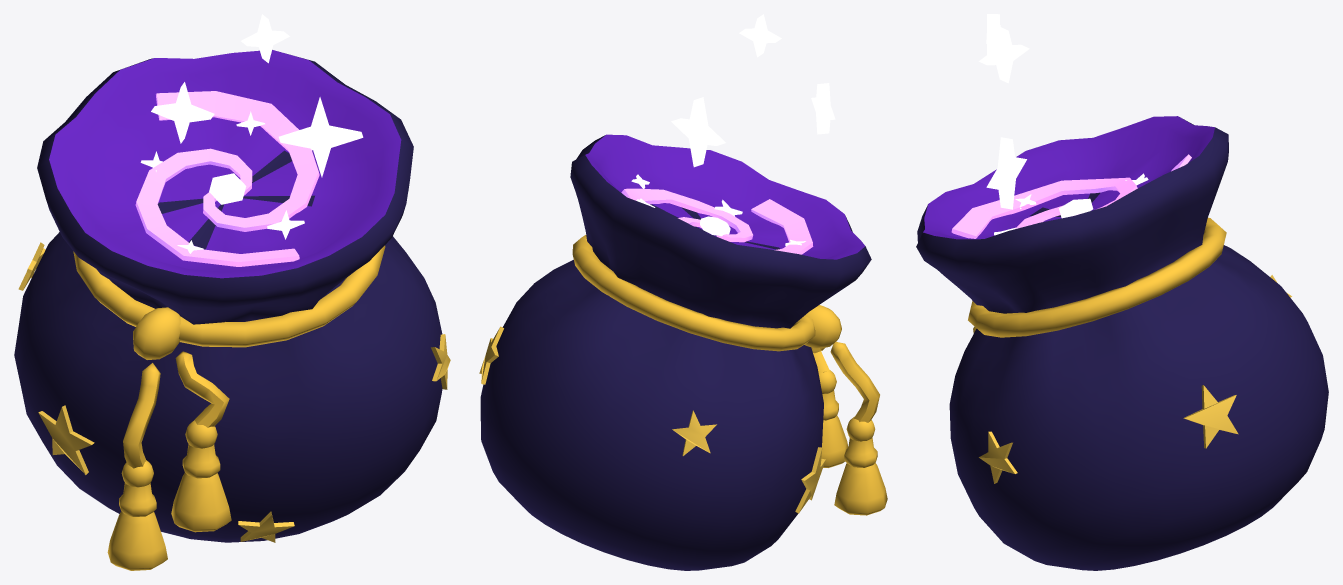
File: item_pouch_void.glb
3 renders of one model, left to right at view 1: azimuth 30°, elevation 25°; view 2: azimuth 150°, elevation 25°; view 3: azimuth 270°, elevation 25°, orthographic. The views are drawn at different scales.
Visible parts, largest first — view 1: PouchVoid; view 2: PouchVoid; view 3: PouchVoid.
Part boxes in pixels (bbox=[...]): PouchVoid: bbox=[14, 14, 450, 570]; PouchVoid: bbox=[479, 14, 887, 570]; PouchVoid: bbox=[916, 14, 1328, 570].
Bounding box in the file's own units: 0.2255 × 0.32 × 0.2314.
